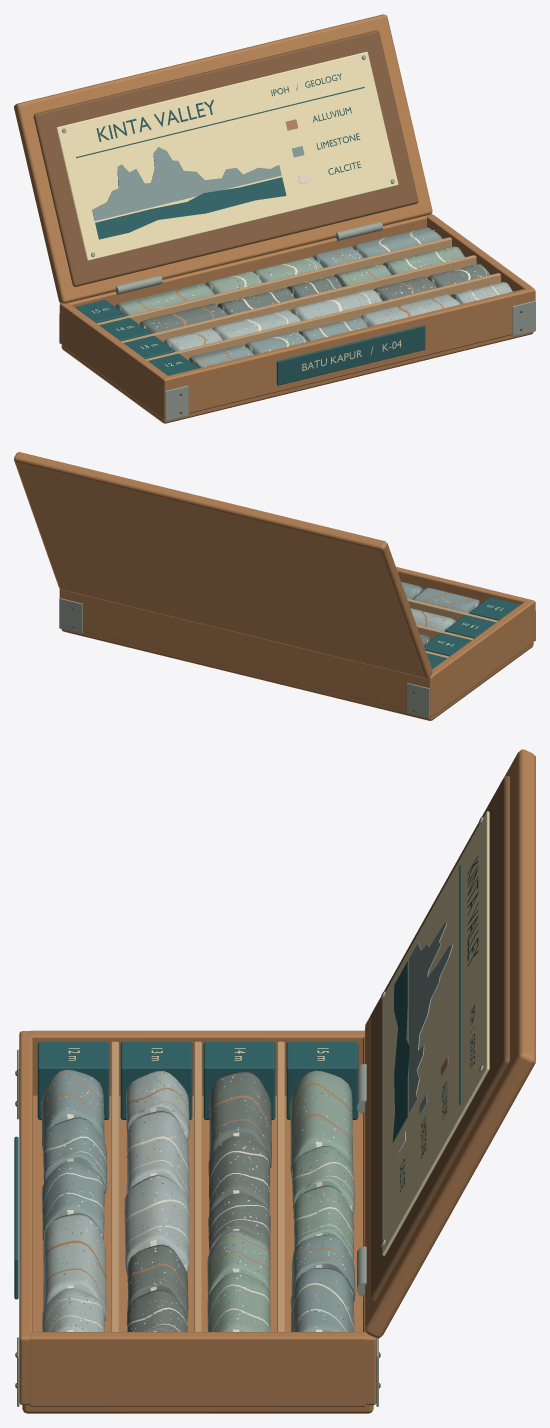
The picture shows the model from 3 angles, top to bottom: view 1: azimuth 30°, elevation 25°; view 2: azimuth 150°, elevation 25°; view 3: azimuth 270°, elevation 25°; orthographic projection. The views are drawn at different scales.
Visible parts, largest first — view 1: Raised lid, Sample case, Karst rock cores, Case labels, Case hardware, Mineral texture; view 2: Raised lid, Sample case, Case labels, Karst rock cores, Case hardware; view 3: Karst rock cores, Sample case, Raised lid, Case labels, Mineral texture, Case hardware.
Boxes of the visible parts, bbox=[...] form: Raised lid: bbox=[14, 14, 432, 303]; Sample case: bbox=[59, 213, 535, 423]; Karst rock cores: bbox=[115, 227, 512, 368]; Case labels: bbox=[75, 300, 425, 385]; Case hardware: bbox=[59, 221, 535, 421]; Mineral texture: bbox=[135, 230, 511, 366]; Raised lid: bbox=[14, 452, 432, 678]; Sample case: bbox=[59, 567, 535, 720]; Case labels: bbox=[424, 597, 520, 669]; Karst rock cores: bbox=[401, 581, 479, 645]; Case hardware: bbox=[59, 598, 535, 718]; Karst rock cores: bbox=[41, 1069, 355, 1331]; Sample case: bbox=[19, 1030, 376, 1413]; Raised lid: bbox=[365, 749, 535, 1338]; Case labels: bbox=[14, 1042, 358, 1299]; Mineral texture: bbox=[42, 1072, 355, 1331]; Case hardware: bbox=[15, 1049, 380, 1406].
Bounding box in the file's own units: 0.844 × 0.461 × 0.6044.
